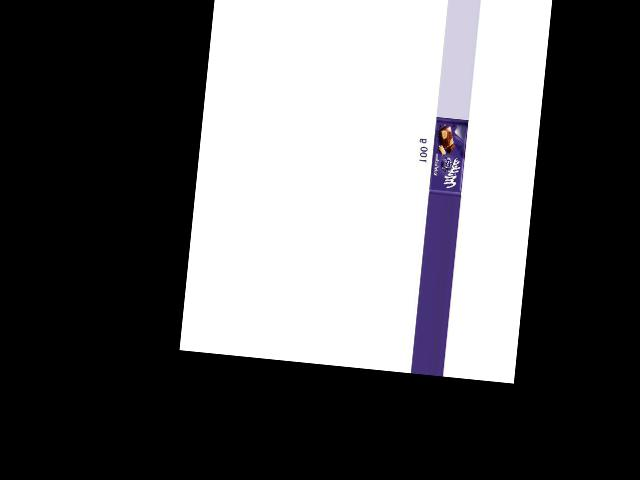chocolate: (427, 116, 468, 196)
